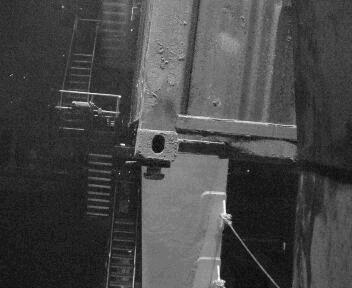twist_lock_1: (150, 163, 205, 205)
